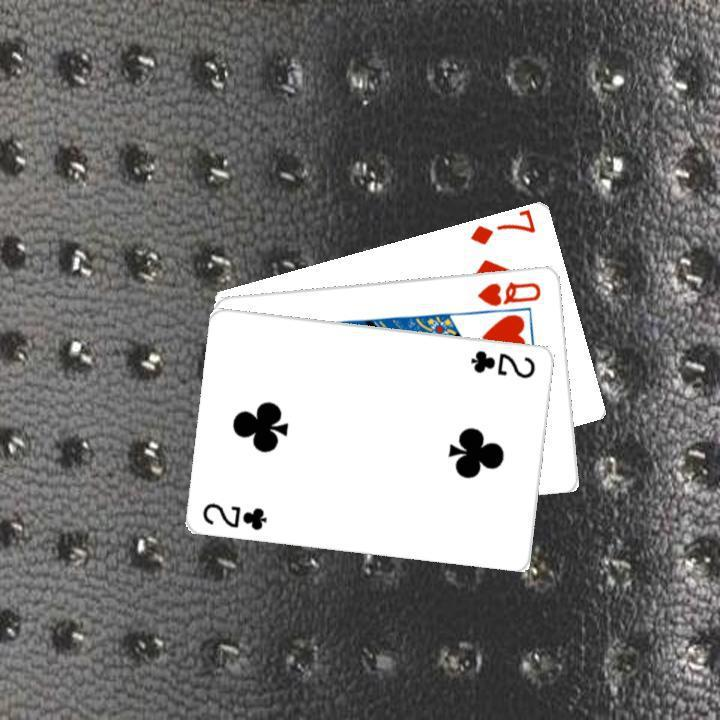2: (467, 345, 538, 380), (198, 498, 270, 532)
7: (466, 207, 538, 247)
Q: (473, 277, 544, 308)
